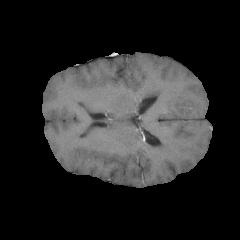glioma: (124, 79, 166, 107)
